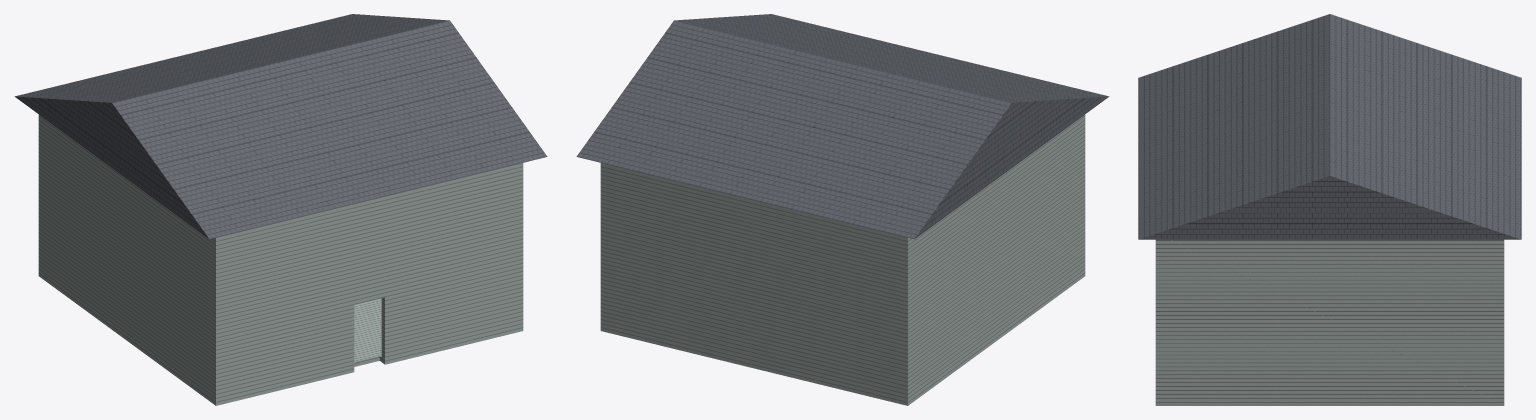
File: foursquare.glb
The picture shows the model from 3 angles, left to right: view 1: azimuth 30°, elevation 25°; view 2: azimuth 150°, elevation 25°; view 3: azimuth 270°, elevation 25°; orthographic projection.
Visible parts, largest first — view 1: foursquare-col; view 2: foursquare-col; view 3: foursquare-col.
Part boxes in pixels (x1,y1,x2,y2): foursquare-col: (14,14,547,405); foursquare-col: (576,14,1109,405); foursquare-col: (1138,14,1521,405).
Bounding box in the file's own units: 11 × 7.52 × 11.
Materials: 2 (2 with a texture image).
